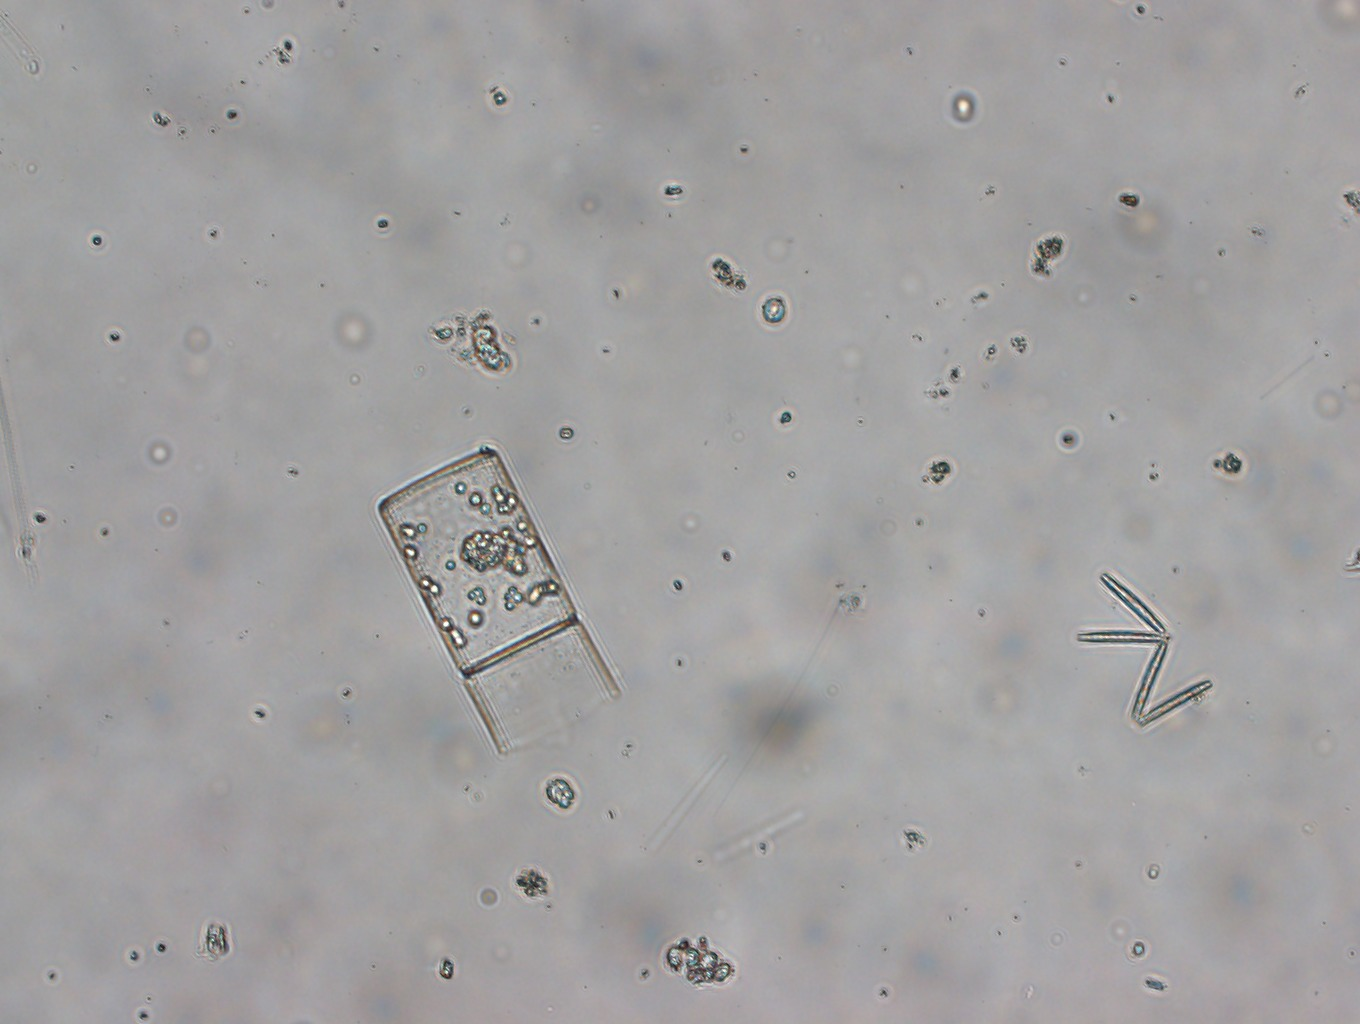guinardia flaccida: (377, 447, 619, 756)
thalassionema nitzschioides: (1075, 570, 1213, 729)
